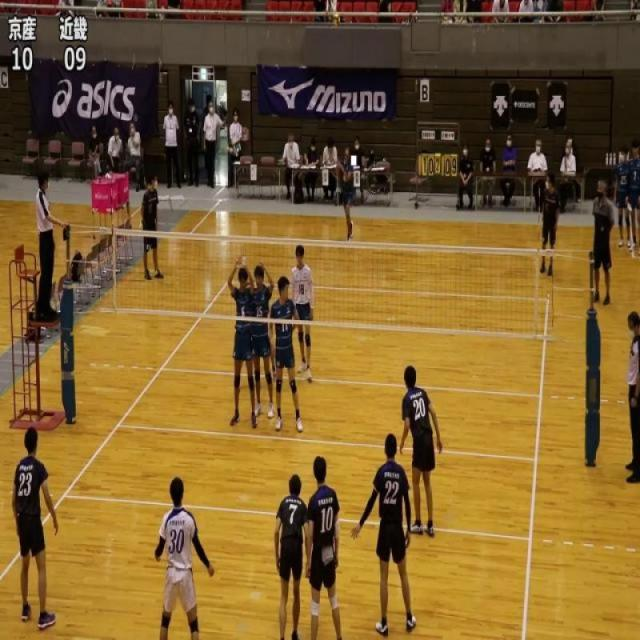volleyball: (332, 12, 340, 30)
